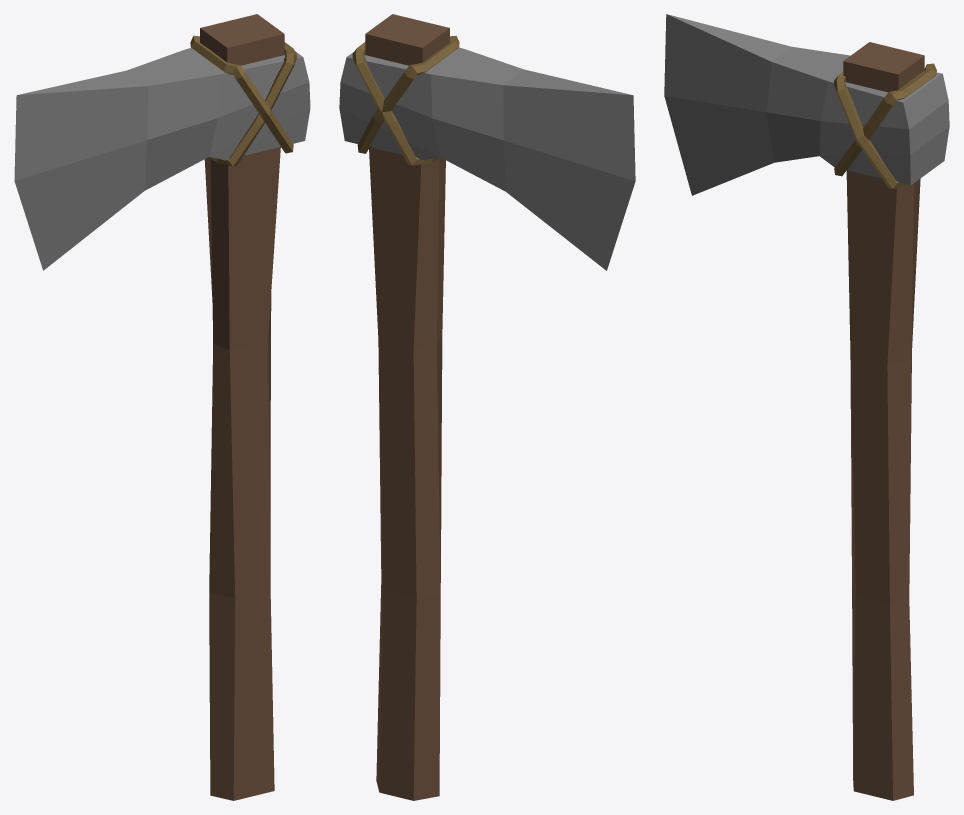
The model's file is axe.glb.
3 renders of one model, left to right at view 1: azimuth 30°, elevation 25°; view 2: azimuth 150°, elevation 25°; view 3: azimuth 330°, elevation 25°, orthographic. The views are drawn at different scales.
Visible parts, largest first — view 1: Axe.001; view 2: Axe.001; view 3: Axe.001.
Boxes of the visible parts, <box> form: Axe.001: <box>14,14,310,800</box>; Axe.001: <box>339,14,635,800</box>; Axe.001: <box>664,14,949,800</box>.
Bounding box in the file's own units: 24.59 × 64.55 × 7.86.
